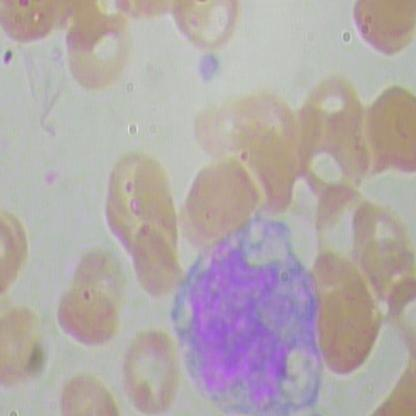Platelets: (195, 52, 227, 86)
RBC: (92, 152, 170, 247), (66, 6, 144, 100), (314, 277, 386, 377), (185, 147, 257, 247), (116, 314, 183, 415), (288, 70, 366, 155), (358, 80, 415, 181), (53, 286, 123, 362), (335, 1, 415, 67), (1, 299, 55, 391), (132, 218, 184, 309), (168, 1, 244, 53), (53, 364, 127, 415), (1, 210, 36, 304)
WBC: (177, 210, 329, 415)
